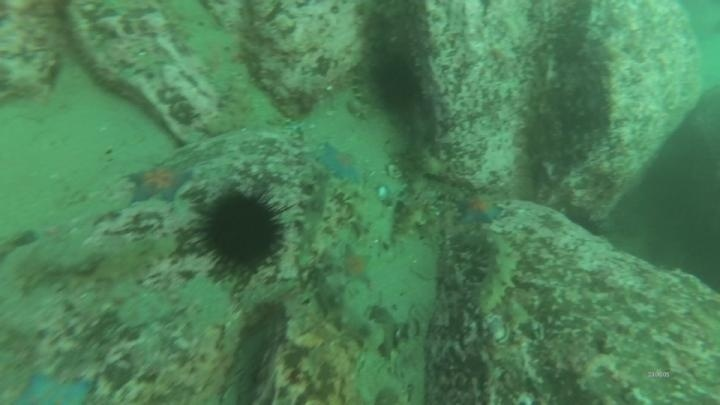echinus: (194, 187, 288, 275), (368, 52, 425, 113)
holothurian: (7, 231, 180, 292), (311, 263, 378, 341), (470, 230, 523, 318), (338, 180, 400, 252), (197, 74, 257, 139), (295, 167, 336, 261), (345, 60, 378, 123)
starfish: (124, 159, 195, 207), (16, 368, 97, 404), (316, 140, 368, 187), (453, 191, 505, 227), (337, 244, 377, 288)
